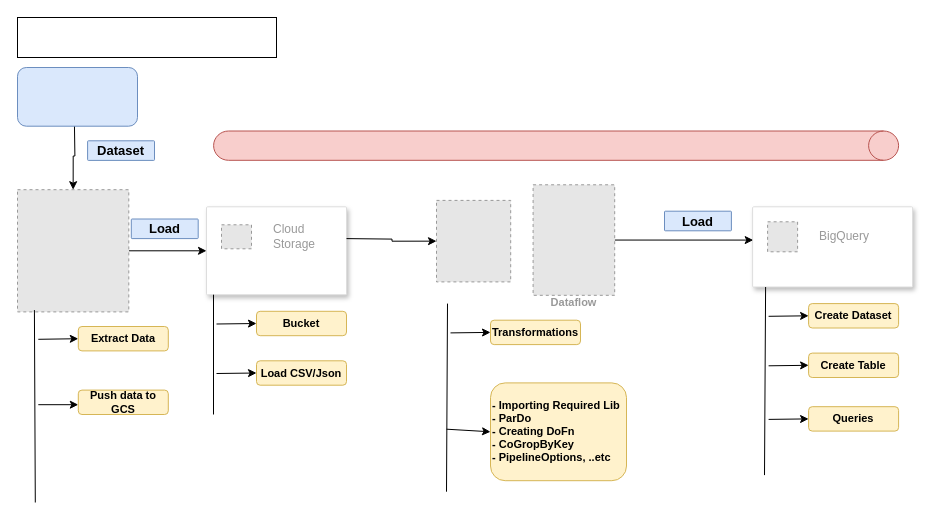
Image size: 937x521. Some labels were removed from this diagram. Grey dashed boxes stand in for pictures. Here are the shapes that lost their labels. From the top down, the centre of each, then its label:
At point (146, 37): "Data pipeline using Dataflow".
At point (77, 96): "External Data".
At point (556, 145): "Data Pipeline".
